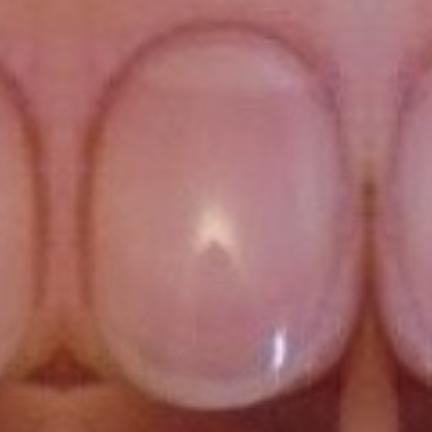Nail: (85, 26, 344, 415), (0, 65, 41, 382), (394, 57, 432, 373)
